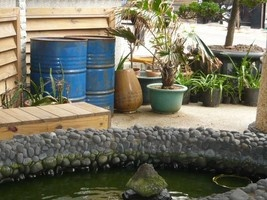bowl: (115, 68, 144, 115)
bucket: (29, 37, 86, 103), (85, 36, 116, 114)
